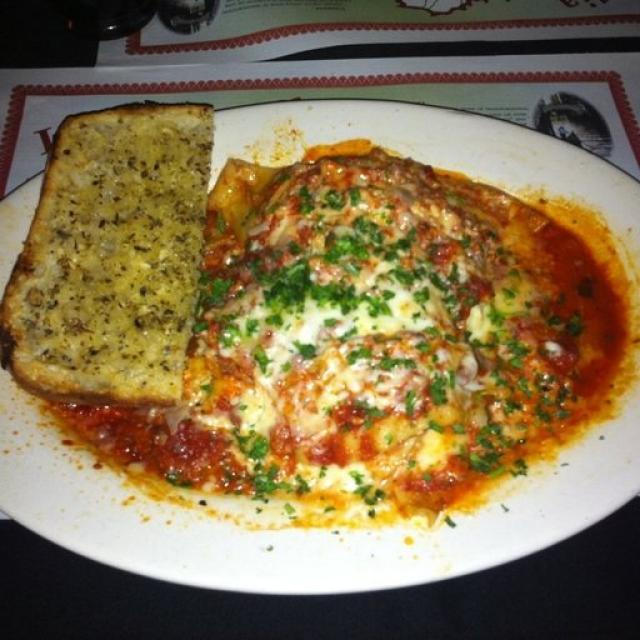Lasagna: (212, 160, 577, 486)
